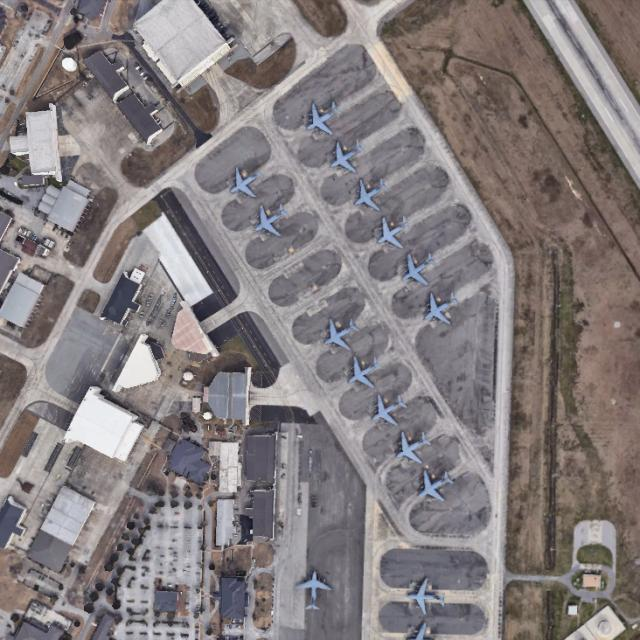fighter jet: (422, 293, 458, 327), (323, 317, 355, 352), (254, 205, 286, 238), (328, 142, 363, 172), (400, 255, 432, 287), (354, 179, 387, 210), (369, 396, 405, 424), (346, 357, 378, 388), (398, 432, 430, 463), (307, 105, 340, 134), (419, 472, 452, 500), (378, 216, 405, 248), (228, 168, 256, 198)
